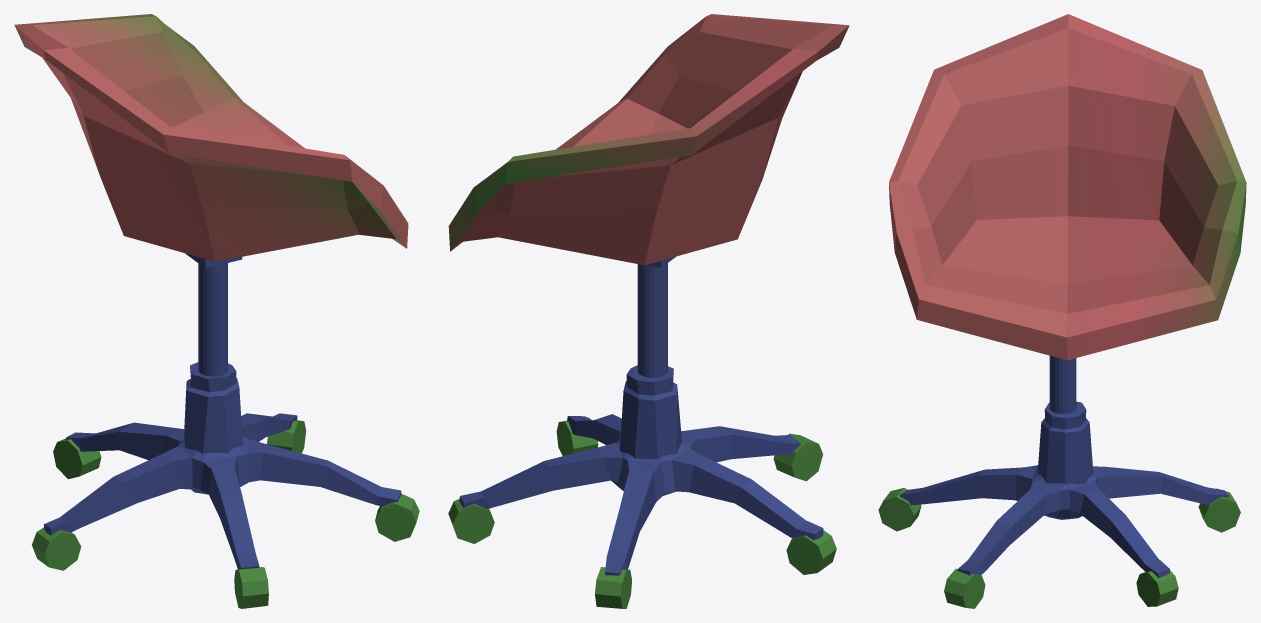
File: Office_Chair.fbx
3 views of the same model, side by side, from view 1: azimuth 30°, elevation 25°; view 2: azimuth 150°, elevation 25°; view 3: azimuth 270°, elevation 25° (orthographic). The views are drawn at different scales.
Visible parts, largest first — view 1: Office_Chair; view 2: Office_Chair; view 3: Office_Chair.
Boxes of the visible parts, box(x1,y1,x2,y2) form: Office_Chair: box(14, 14, 419, 608); Office_Chair: box(448, 14, 849, 608); Office_Chair: box(878, 14, 1246, 608).
Bounding box in the file's own units: 84.28 × 128 × 92.06.
